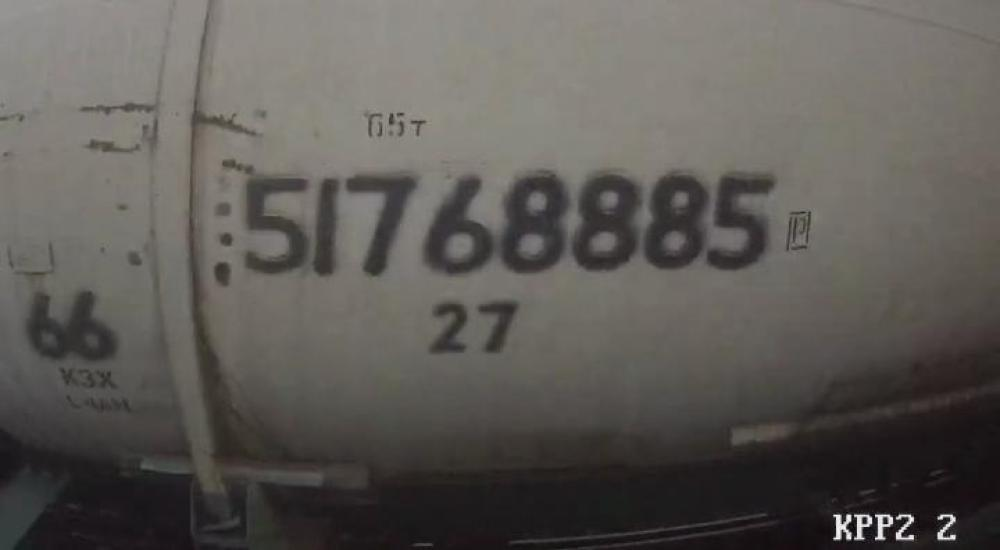Wagon-number: (237, 163, 780, 286)
